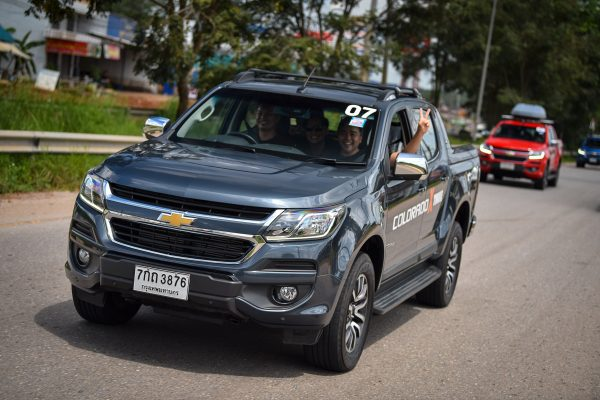pickup: (69, 69, 478, 371)
